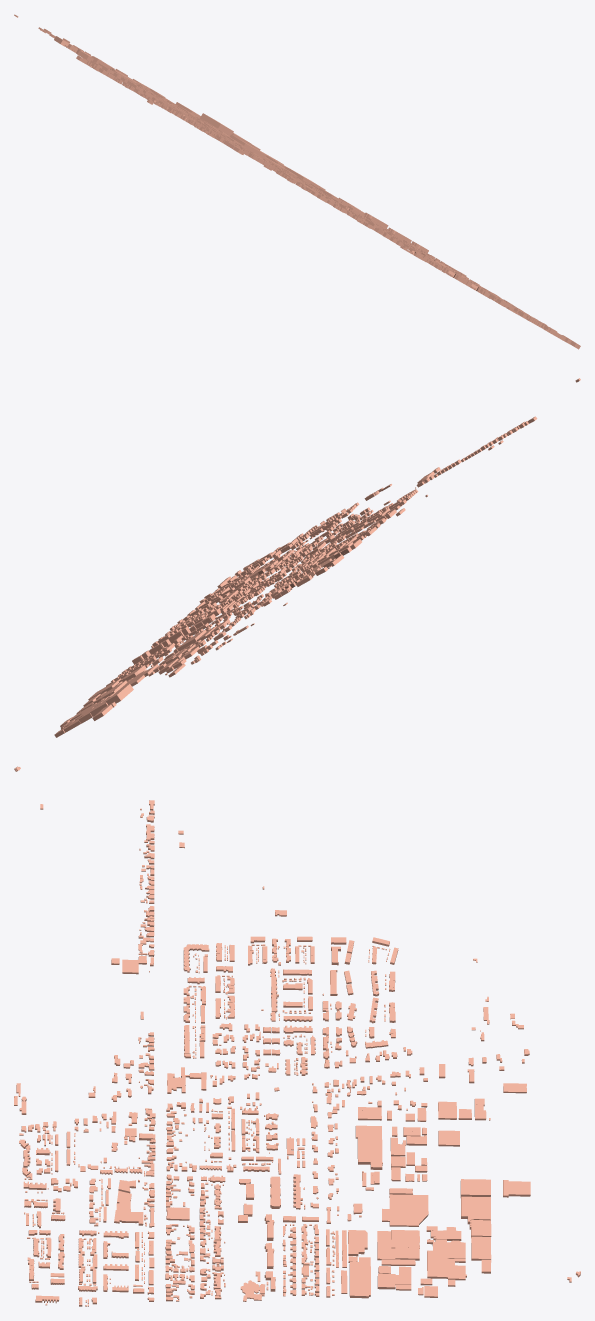
3 views of the same model, one above another, from view 1: azimuth 30°, elevation 25°; view 2: azimuth 150°, elevation 25°; view 3: azimuth 270°, elevation 25° (orthographic). The views are drawn at different scales.
Size of the model in its own units: 970 by 755 by 1216.
